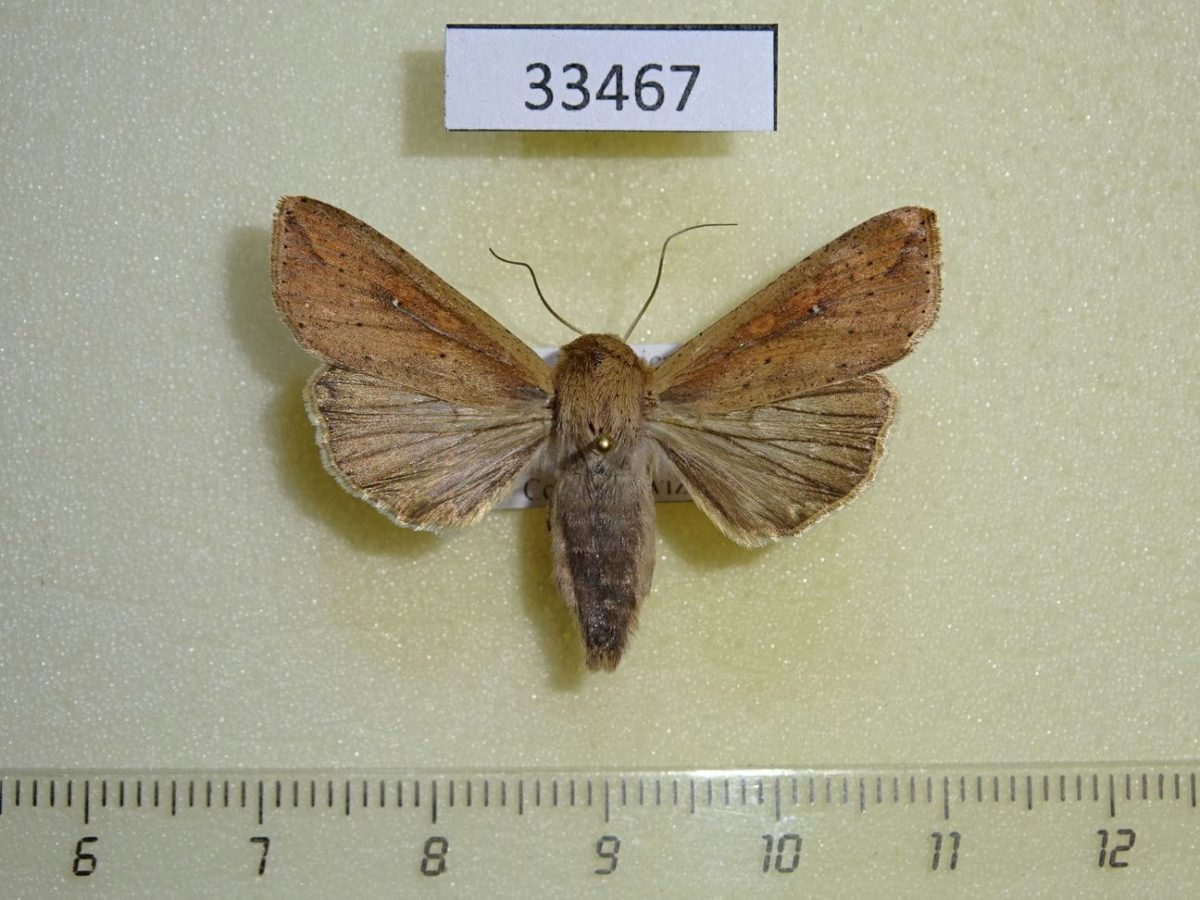Noctuidae: (267, 192, 949, 674)
